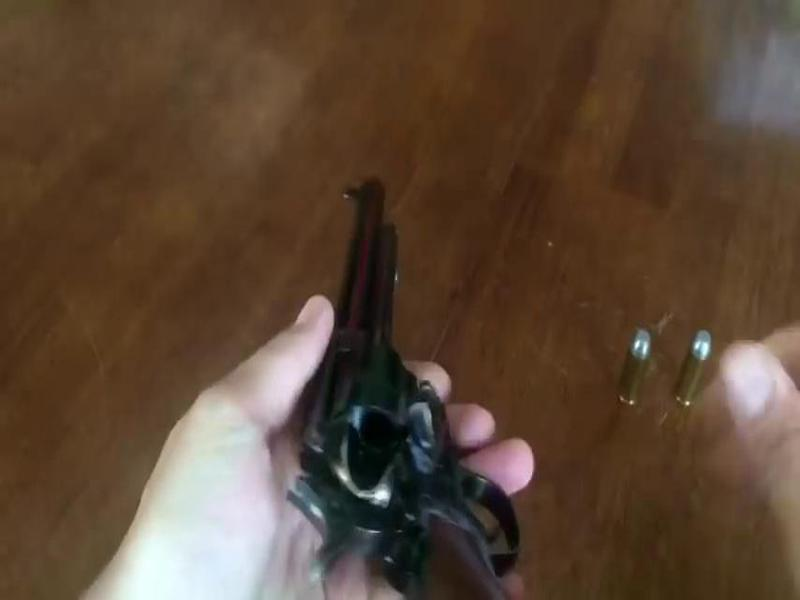Revolver: (262, 169, 525, 600)
